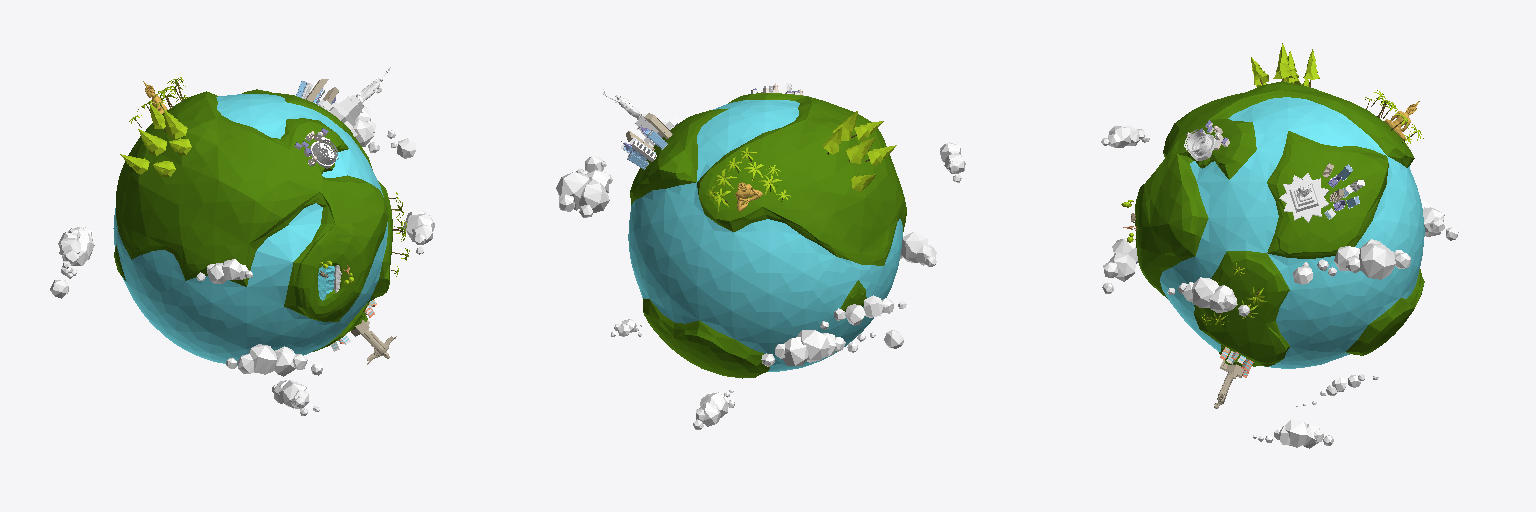
File: Globe_Scene.obj
The picture shows the model from 3 angles: view 1: azimuth 30°, elevation 25°; view 2: azimuth 150°, elevation 25°; view 3: azimuth 270°, elevation 25°; orthographic projection.
Parts seen in each view (by area): view 1: Sphere_6, Sphere:3; view 2: Sphere_6, Sphere:3_7, Sphere:3_4, Sphere:2_4, Sphere:2_7, Sphere:3; view 3: Sphere_6, Sphere:3_4, Statue_Of_Liberty_1, Sphere:3_6.
Part boxes in pixels (x1,y1,x2,y2): Sphere_6: (113, 89, 392, 365); Sphere:3: (249, 344, 277, 374); Sphere_6: (628, 93, 906, 378); Sphere:3_7: (797, 330, 829, 362); Sphere:3_4: (556, 172, 590, 210); Sphere:2_4: (579, 180, 609, 212); Sphere:2_7: (782, 337, 807, 365); Sphere:3: (901, 232, 927, 262); Sphere_6: (1135, 81, 1424, 368); Sphere:3_4: (1359, 243, 1395, 279); Statue_Of_Liberty_1: (1279, 173, 1328, 222); Sphere:3_6: (1192, 277, 1218, 307).
Bounding box in the file's own units: 51753 × 49326 × 47222.